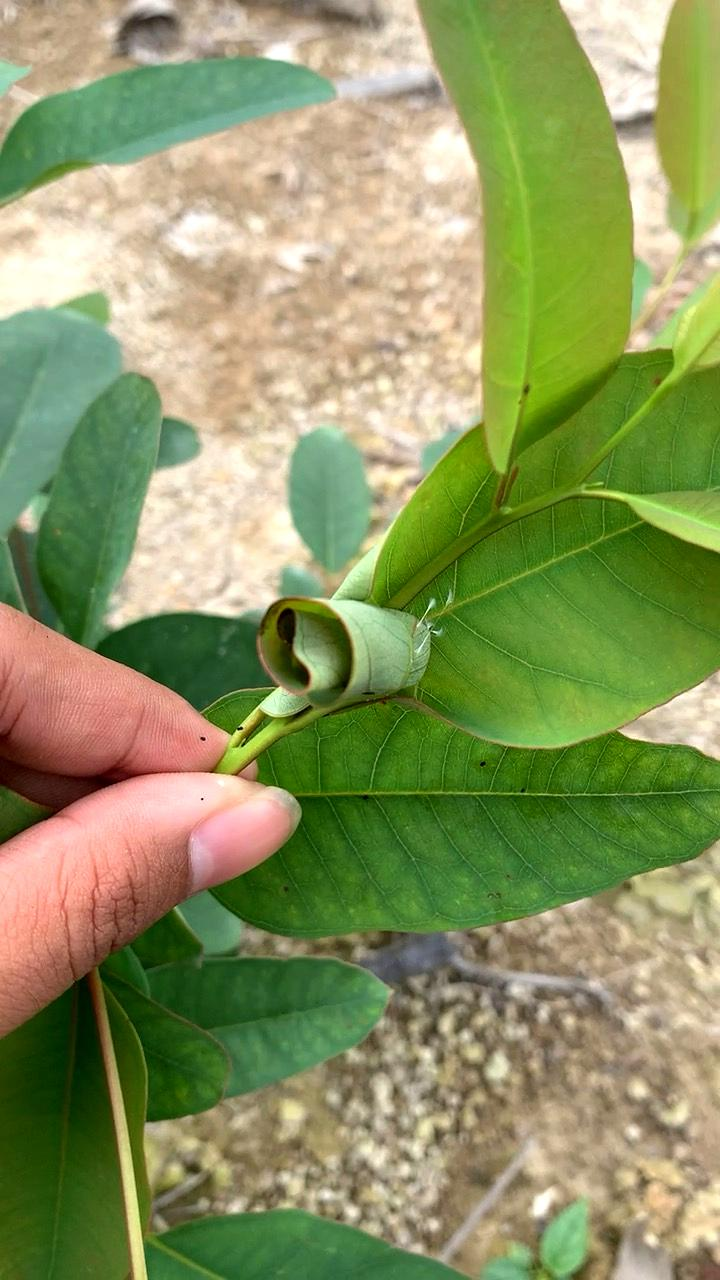Leaf Roller - Leaf: (236, 556, 463, 746)
